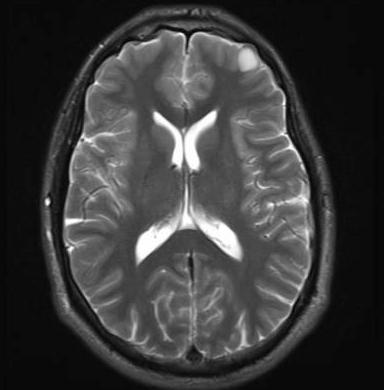Normal_Brain: (12, 1, 384, 390)
